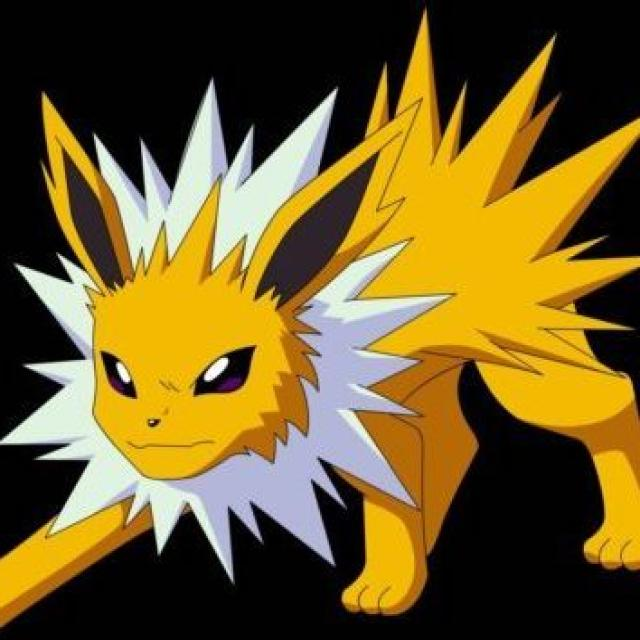Jolteon: (31, 79, 598, 598)
